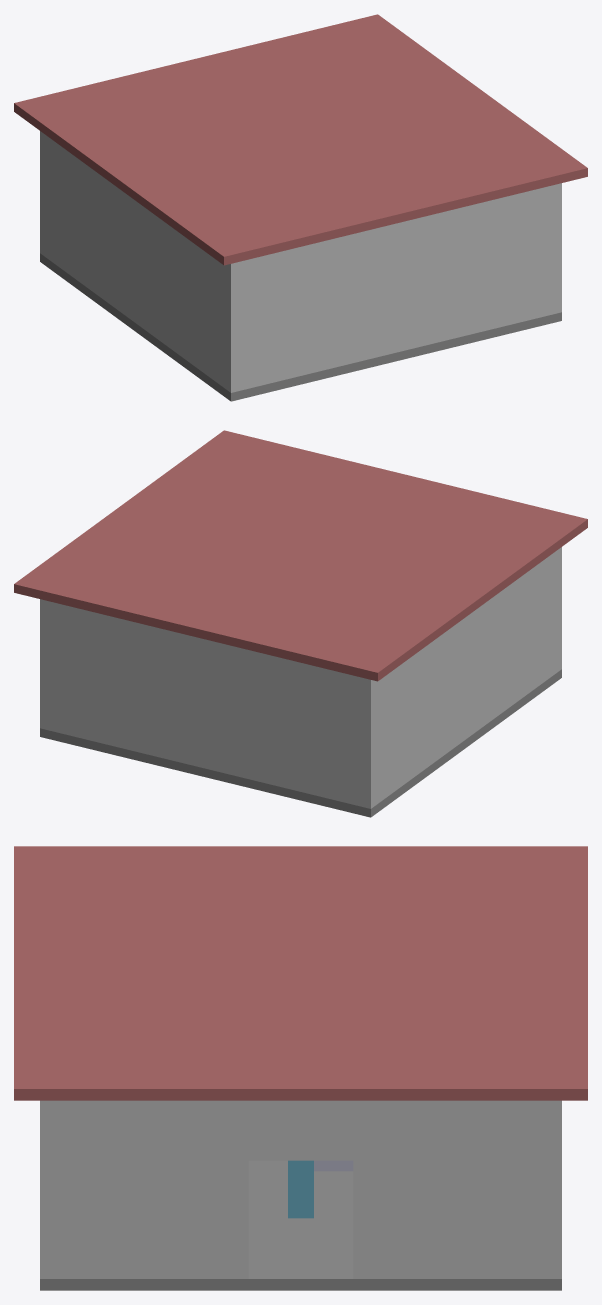
File: interactive_house.glb
3 renders of one model, top to bottom at view 1: azimuth 30°, elevation 25°; view 2: azimuth 150°, elevation 25°; view 3: azimuth 270°, elevation 25°, orthographic. The views are drawn at different scales.
Parts seen in each view (by area): view 1: Roof, South_Wall, West_Wall, Foundation, North_Wall; view 2: Roof, North_Wall, West_Wall, Foundation; view 3: Roof, East_Wall_Right, East_Wall_Left, Foundation, East_Wall_Top, North_Wall, South_Wall, Center_Column.
Part boxes in pixels (x1,y1,x2,y2): Roof: (14,14,587,265); South_Wall: (226,183,561,392); West_Wall: (40,131,239,392); Foundation: (40,253,561,401); North_Wall: (40,131,44,256); Roof: (14,430,587,681); North_Wall: (40,599,375,808); West_Wall: (363,547,561,808); Foundation: (40,669,561,817); Roof: (14,846,587,1100); East_Wall_Right: (40,1100,248,1278); East_Wall_Left: (353,1100,561,1278); Foundation: (40,1160,561,1290); East_Wall_Top: (248,1100,353,1160); North_Wall: (549,1100,561,1278); South_Wall: (40,1100,52,1278); Center_Column: (288,1160,313,1218).
Bounding box in the file's own units: 22 × 9 × 22.
